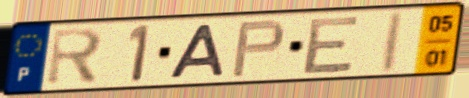1: (125, 23, 152, 84)
A: (165, 23, 228, 81)
E: (299, 13, 363, 76)
I: (376, 9, 407, 76)
P: (229, 18, 288, 80)
R: (44, 25, 107, 88)
